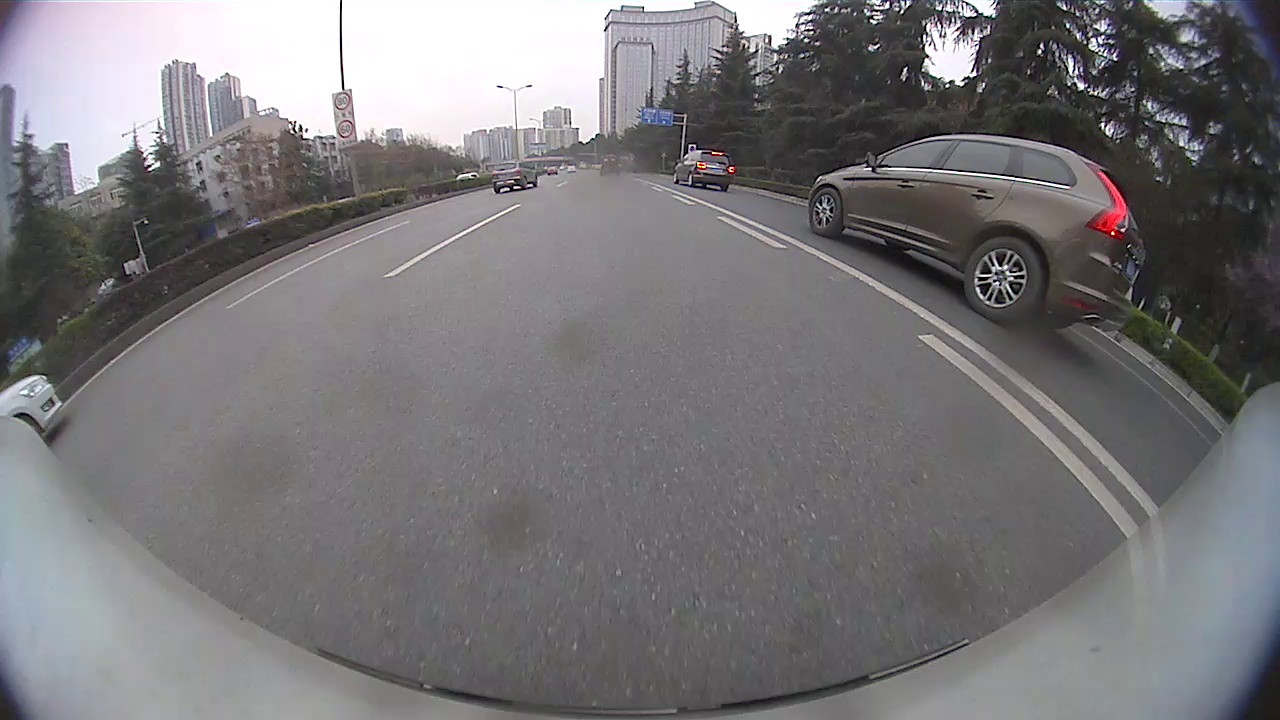car: (806, 131, 1146, 333), (0, 373, 62, 439), (671, 148, 736, 192), (490, 158, 539, 194)
front: (806, 188, 845, 237)
rear: (964, 235, 1042, 325)
